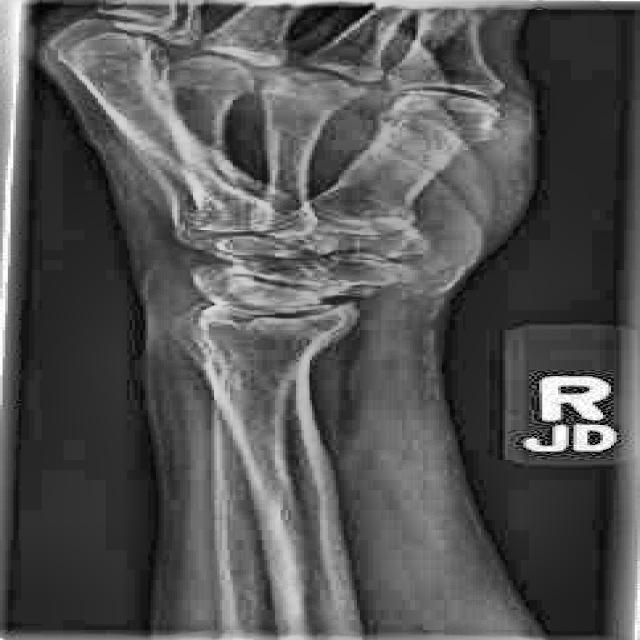wrist positive: (281, 292, 412, 362)
